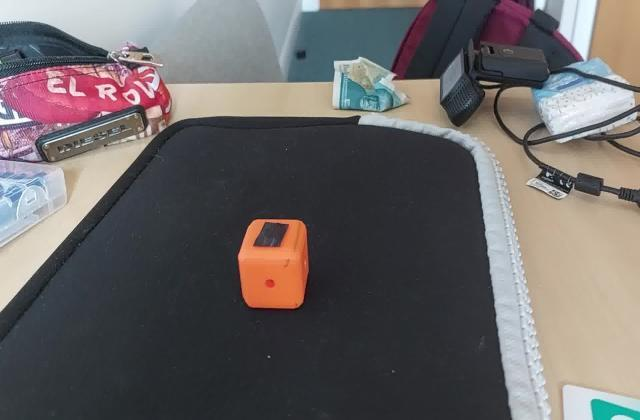black: (255, 220, 290, 252)
cube: (237, 217, 313, 313)
